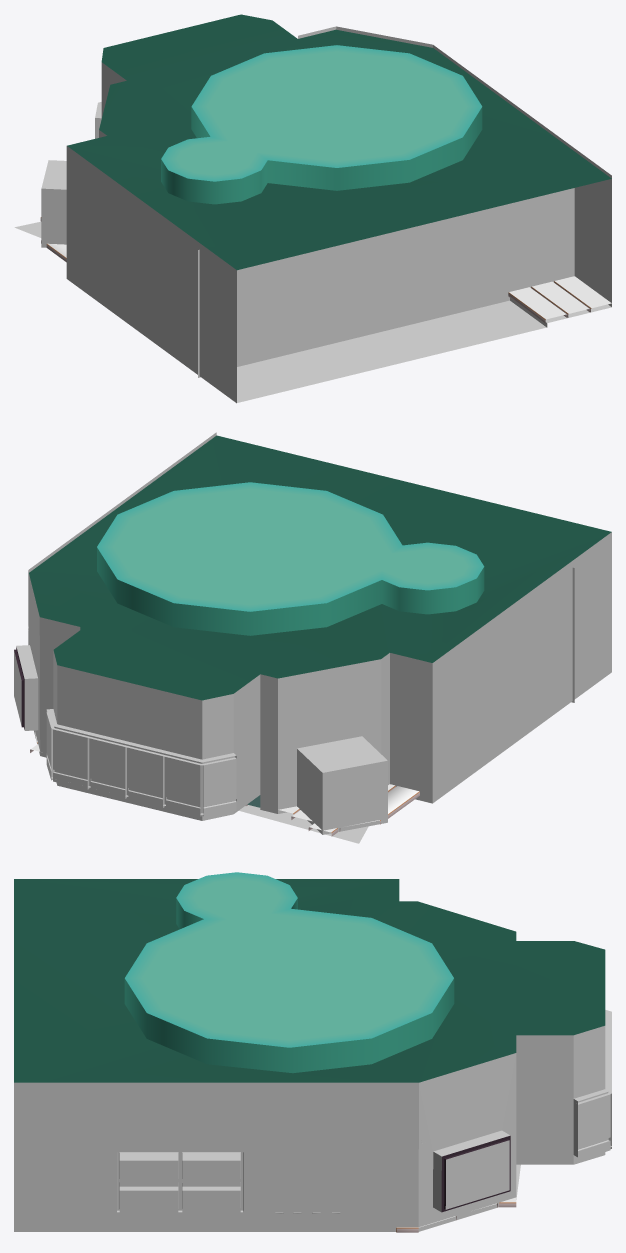
Rendered from DotsShop.fbx.
3 views of the same model, one above another, from view 1: azimuth 30°, elevation 25°; view 2: azimuth 150°, elevation 25°; view 3: azimuth 270°, elevation 25° (orthographic). The views are drawn at different scales.
Visible parts, largest first — view 1: Ceiling, Walls.002, BrickWall, Floor, Walls, WoodFloor, Walls.017, Walls.012, FloorStructure; view 2: Ceiling, BrickWall, Walls.017, Walls.012, Windows, Walls, Walls.007, Walls.016, WoodFloor, FloorStructure; view 3: Ceiling, Walls, Walls.012, Shelves, Windows.
Boxes of the visible parts, box(x1,y1,x2,y2) form: Ceiling: box(67, 14, 611, 270); Walls.002: box(198, 188, 574, 377); BrickWall: box(66, 146, 236, 403); Floor: box(237, 300, 546, 402); Walls: box(336, 26, 611, 306); WoodFloor: box(40, 217, 611, 323); Walls.017: box(41, 130, 106, 247); Walls.012: box(95, 62, 126, 138); FloorStructure: box(14, 221, 611, 327); Ceiling: box(29, 435, 611, 700); BrickWall: box(390, 532, 611, 803); Walls.017: box(260, 653, 389, 834); Walls.012: box(46, 650, 260, 820); Windows: box(46, 713, 236, 817); Walls: box(14, 432, 216, 755); Walls.007: box(46, 712, 236, 816); Walls.016: box(39, 617, 80, 757); WoodFloor: box(30, 732, 419, 836); FloorStructure: box(44, 757, 368, 843); Ceiling: box(14, 872, 605, 1082); Walls: box(14, 1053, 516, 1231); Walls.012: box(516, 1010, 611, 1164); Shelves: box(117, 1152, 243, 1216); Windows: box(578, 1094, 610, 1160).
Size of the model in its own units: 1362 by 520 by 1604.
